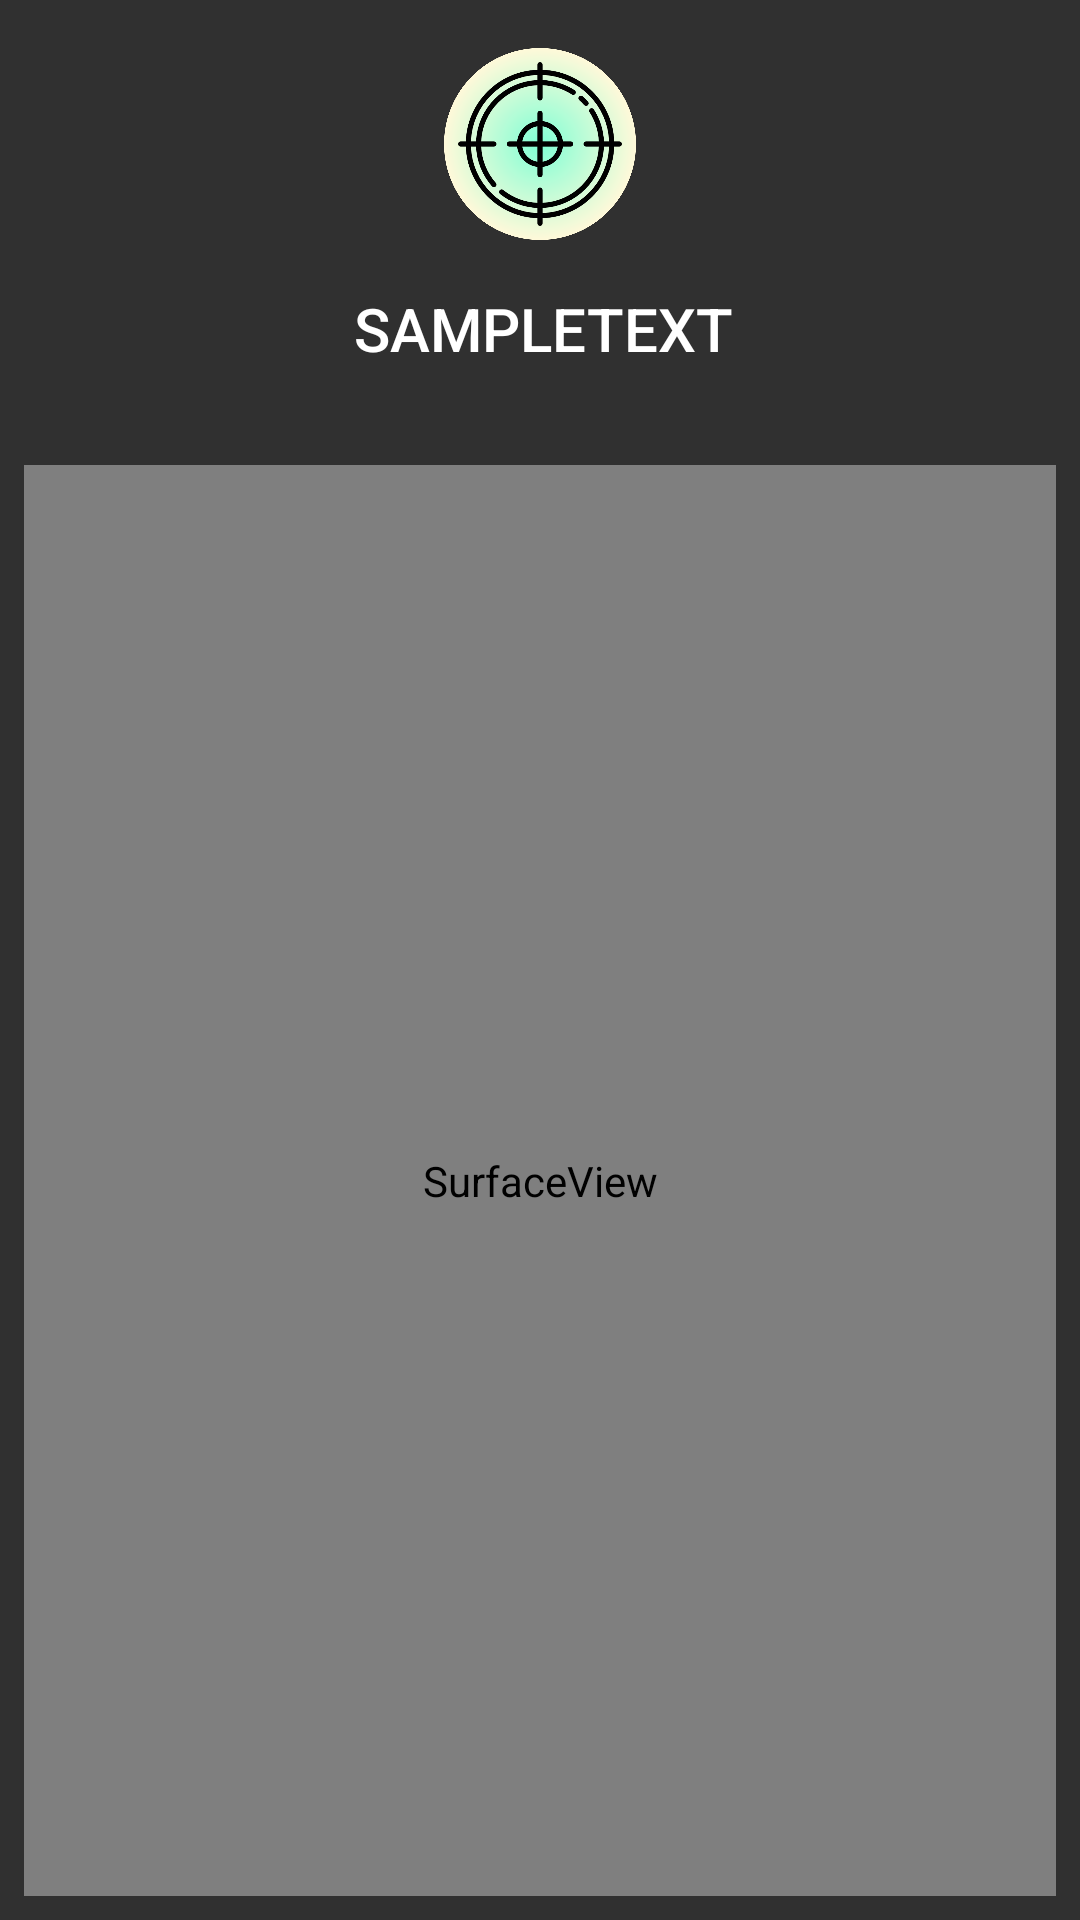

Screen size 1080*1920. Icon name, then its center in pixels as (x=x, y=y):
Sharp Eyes Icon: (x=540, y=144)
